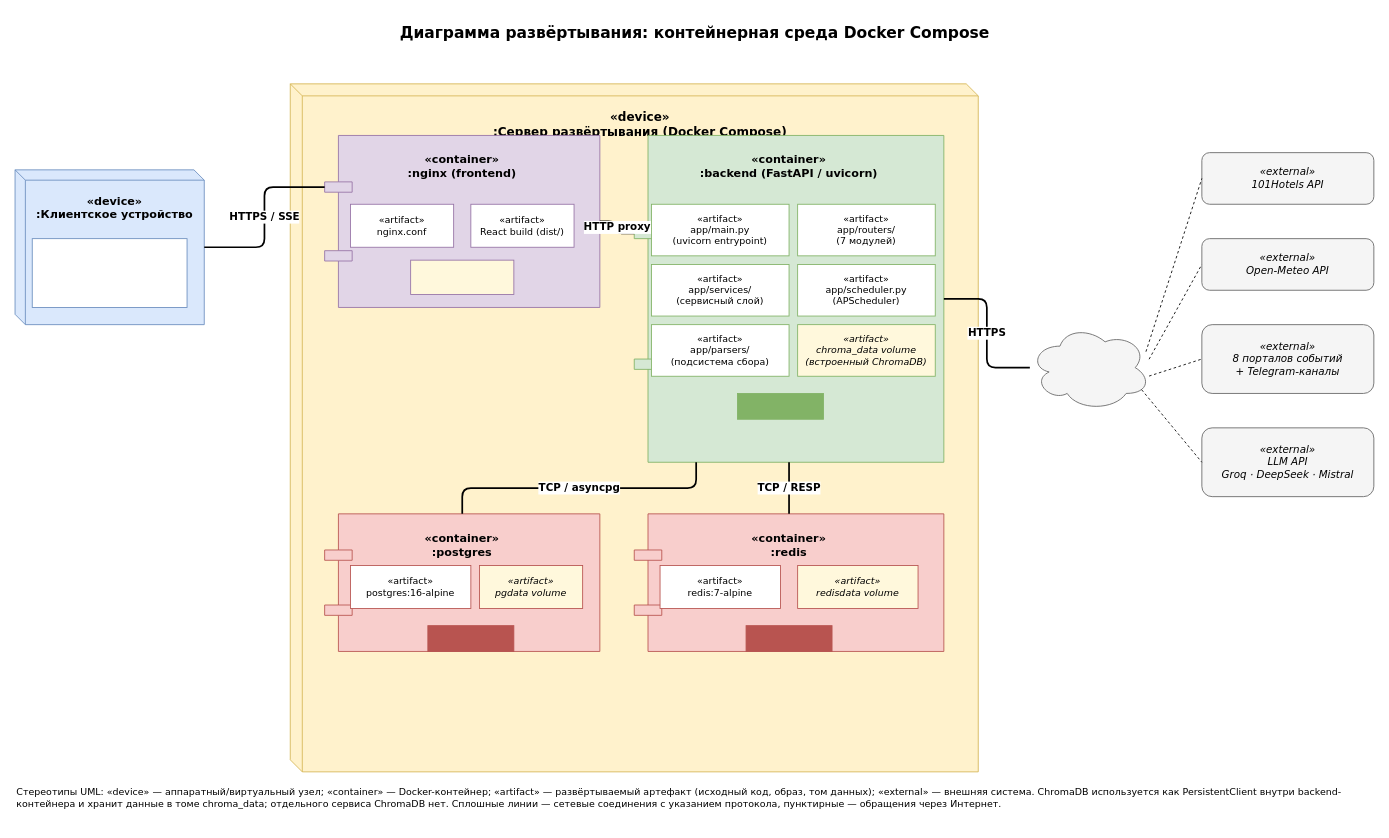
The diagram is 1389 pixels wide and 838 high, and some of its shapes have lost their labels. Each missing label, with the centre of its shape:
"port 5432" goes at (470,638).
"port 6379" goes at (788,638).
"port 8000" goes at (780,406).
"«artifact» static volume" goes at (462,277).
"«artifact» Браузер + React SPA" goes at (109,272).
"Интернет" goes at (1089,367).
